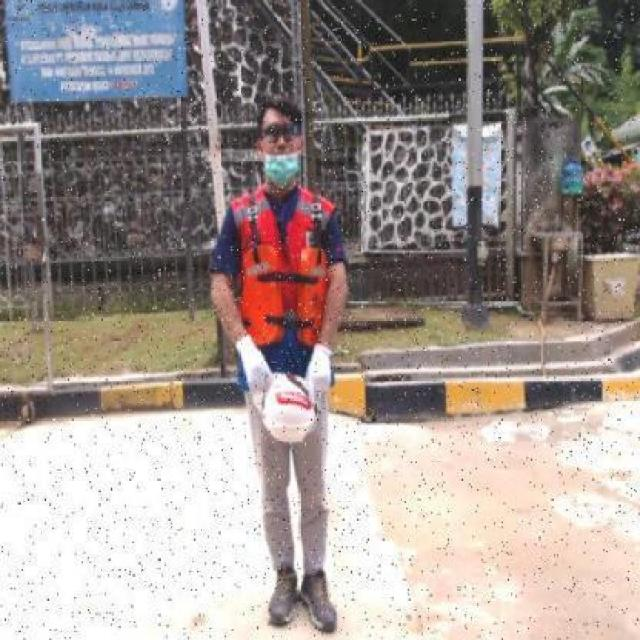Boots: (299, 570, 339, 635), (269, 564, 296, 625)
Gloves: (235, 335, 272, 394), (307, 347, 331, 405)
Helmet: (262, 371, 320, 444)
Mask: (265, 154, 300, 188)
Protective Glasses: (262, 123, 300, 142)
Vest: (238, 245, 328, 344)
